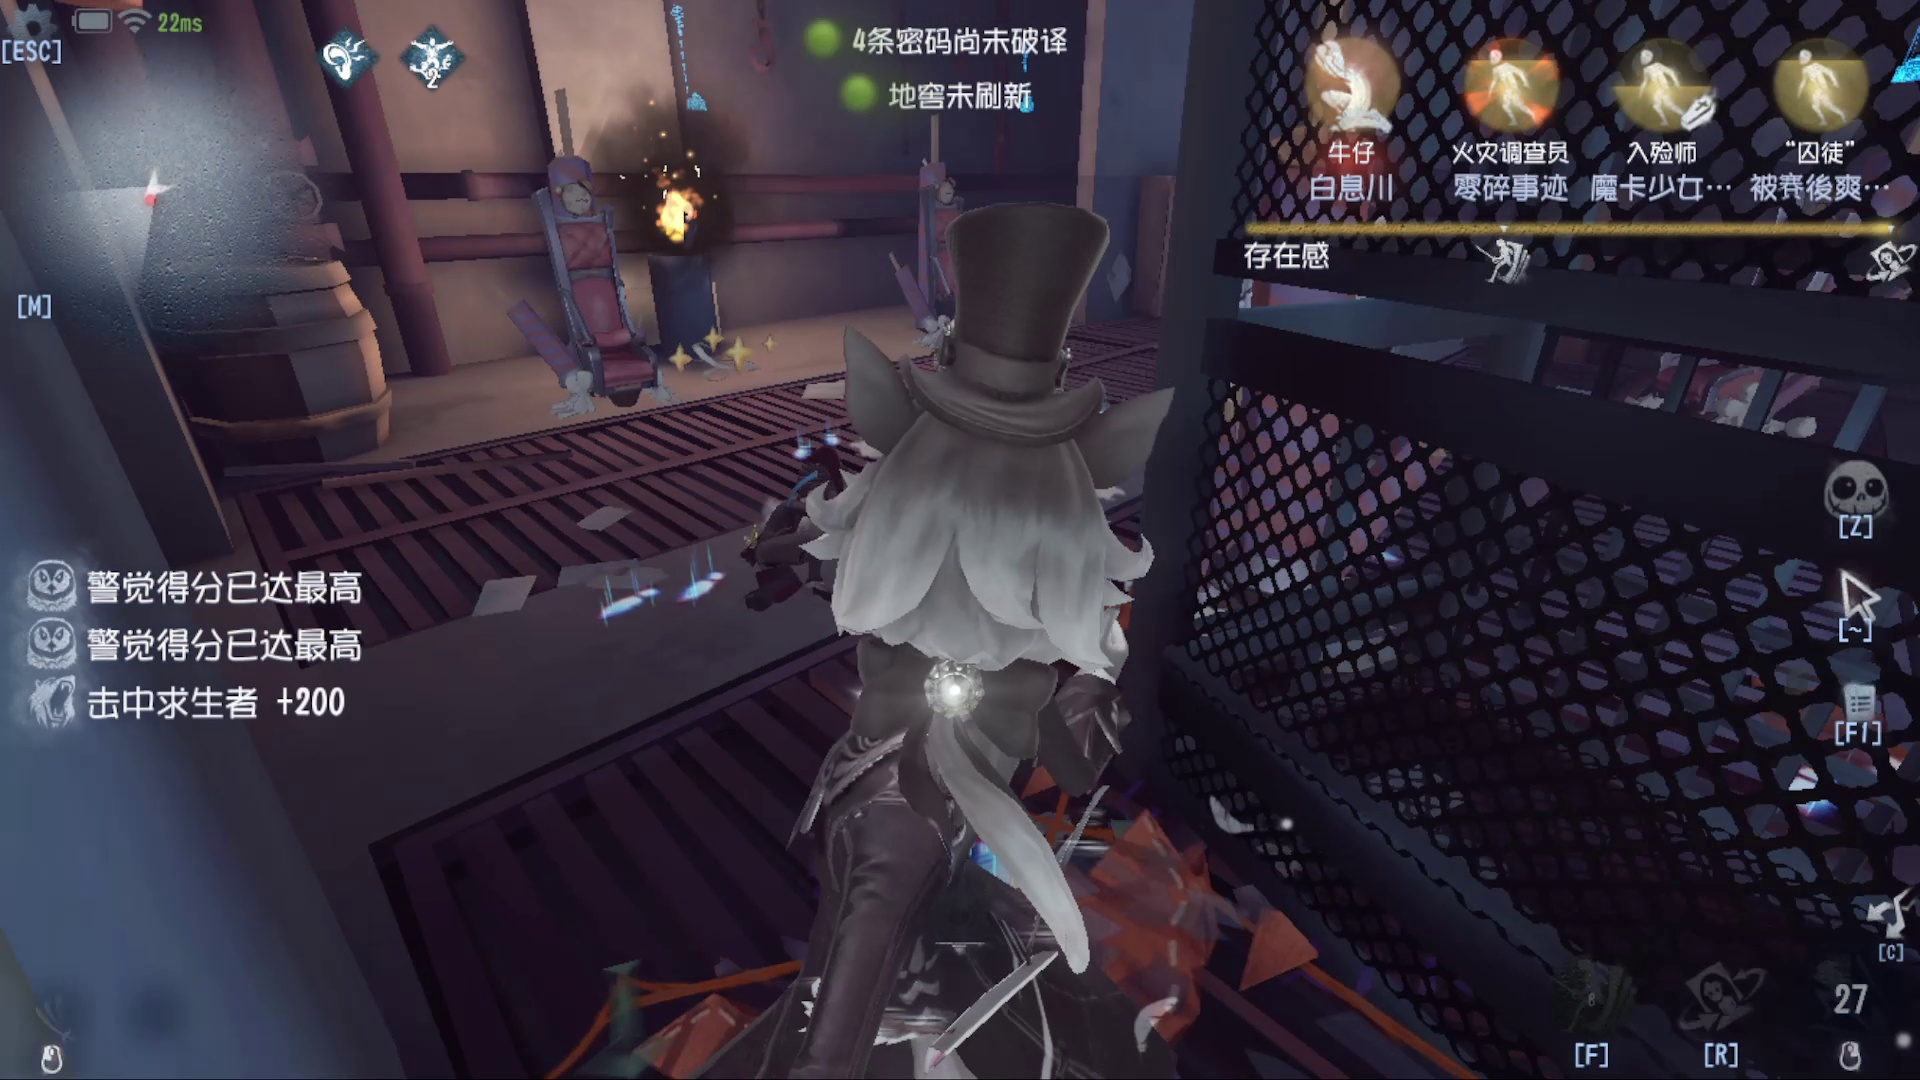求生者: (723, 447, 880, 617)
狂欢之椅: (502, 109, 688, 431)
